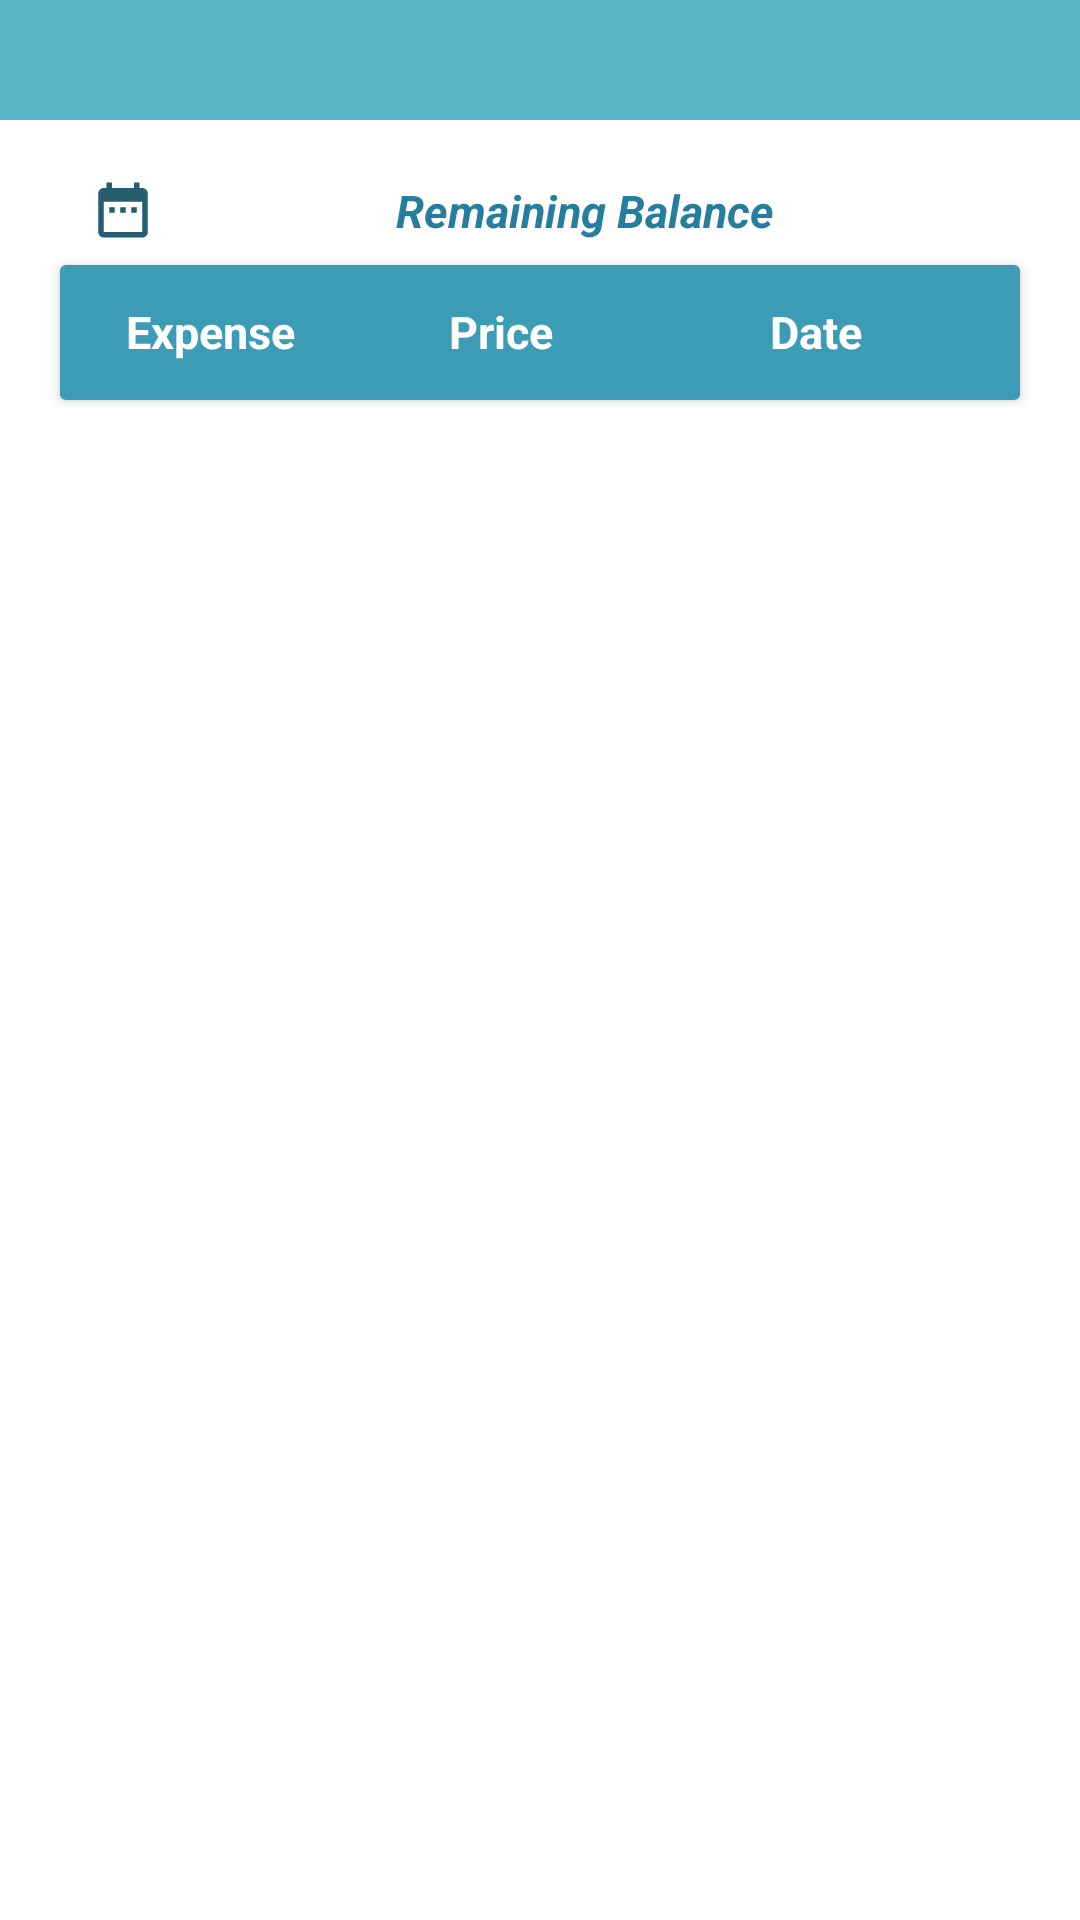

Screen size 1080*1920. Icon name, then its box in pixels as (x1, y1, x2, y2):
selectdate: (98, 182, 148, 238)
